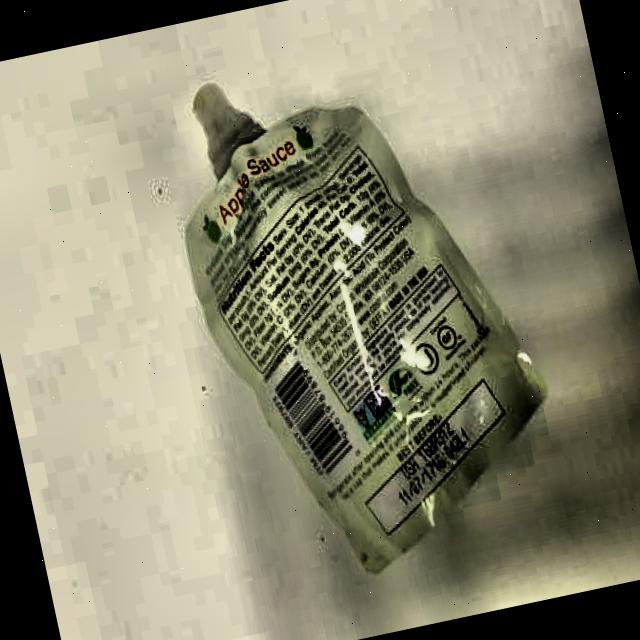trash: (144, 17, 578, 585)
